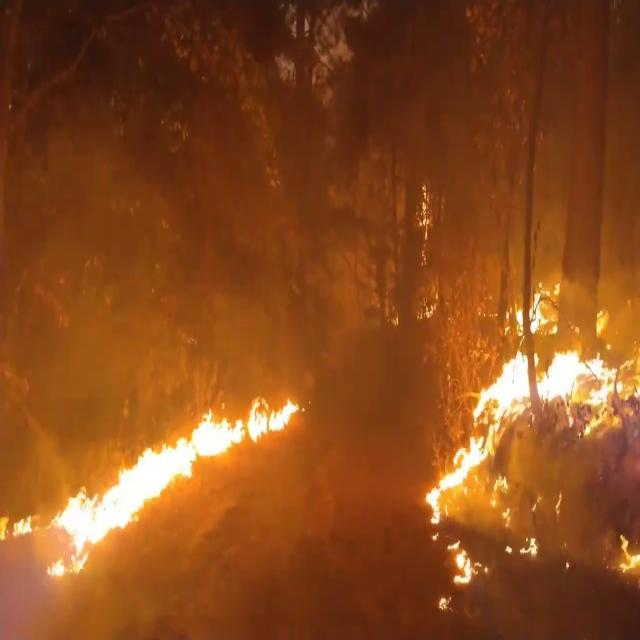Fire: (422, 268, 640, 542), (47, 374, 300, 568)
